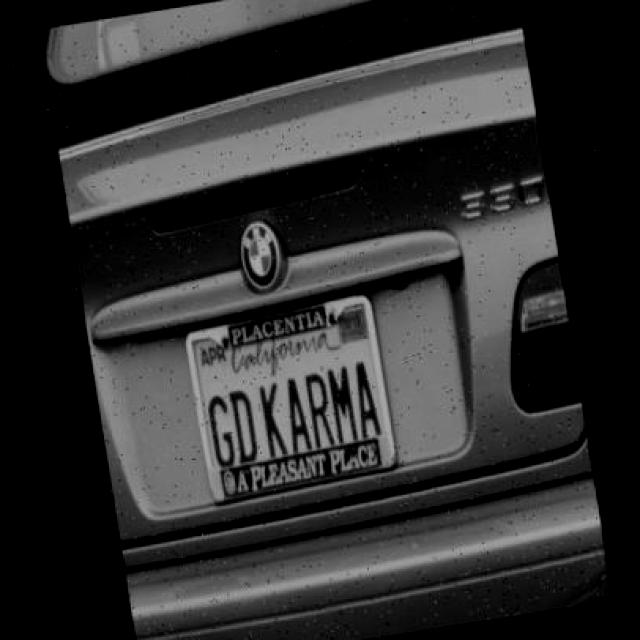licenseplate: (179, 277, 412, 522)
